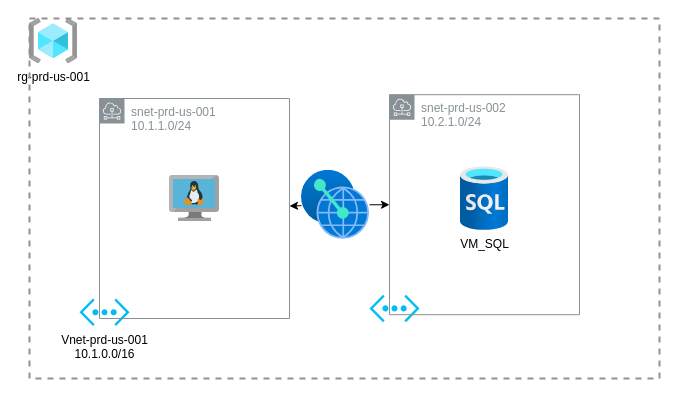
Some shapes in this 678 by 396 pixel diagram are drawn without their labels. The shapes that lost their labels are listed below. From the top down, each one's centre as x and y in pixels, then its label:
At (194,198): "Ubuntu Server VM_WEB".
At (335,204): "Peering".
At (394,308): "Vnet-prd-us-002 10.2.0.0/16".
